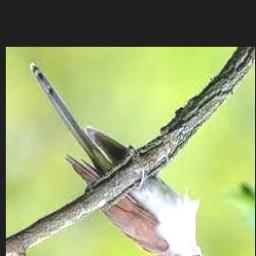Cuckoo: (30, 64, 213, 256)
